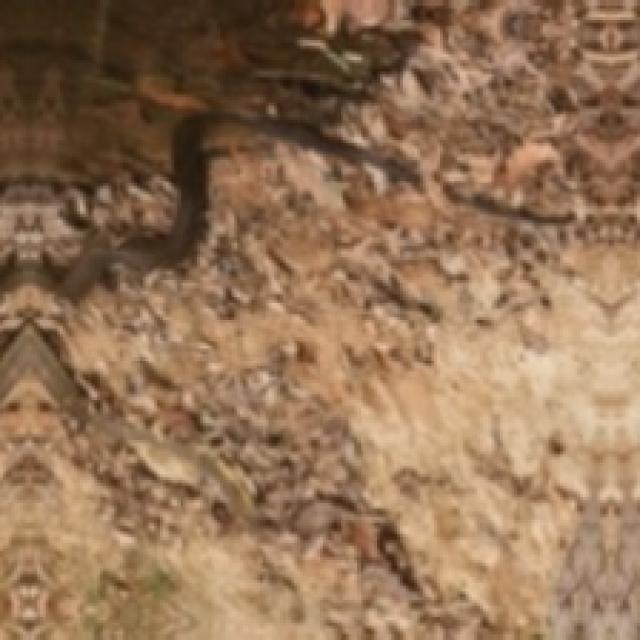king cobra: (54, 111, 417, 300)
